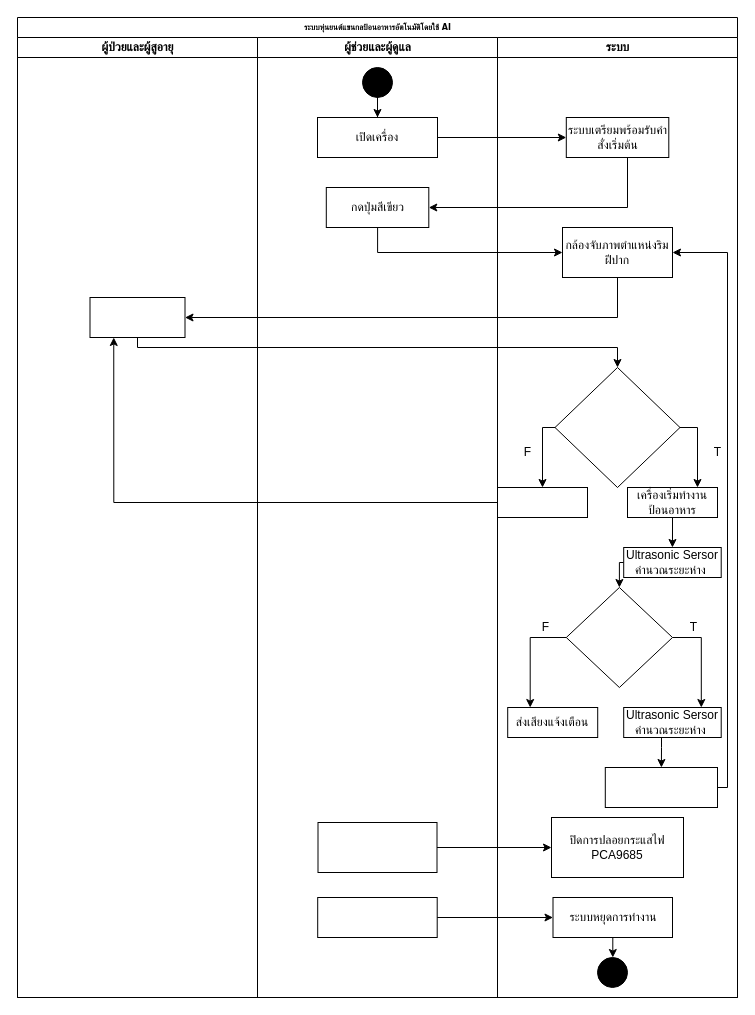
This 755x1015 diagram has some shape labels left out. The centre of each missing label's shape, as x and y in pixels:
"Ultrasonic Sersor ตรวจสอบ ระยะนั่ง" goes at (618,637).
"กดปุ่มสีแดง" goes at (377,917).
"กดปุ่มหยุด ทำงานฉุกเฉิน" goes at (377,847).
"ตรวจสอบตำแหน่ง ระยะการอ้าปาก" goes at (617,427).
"รับคำสั่งใหม่" goes at (542,502).
"อ้าปาก" goes at (137,317).
"แขนกลทำงาน ป้อนอาหาร" goes at (661,787).
